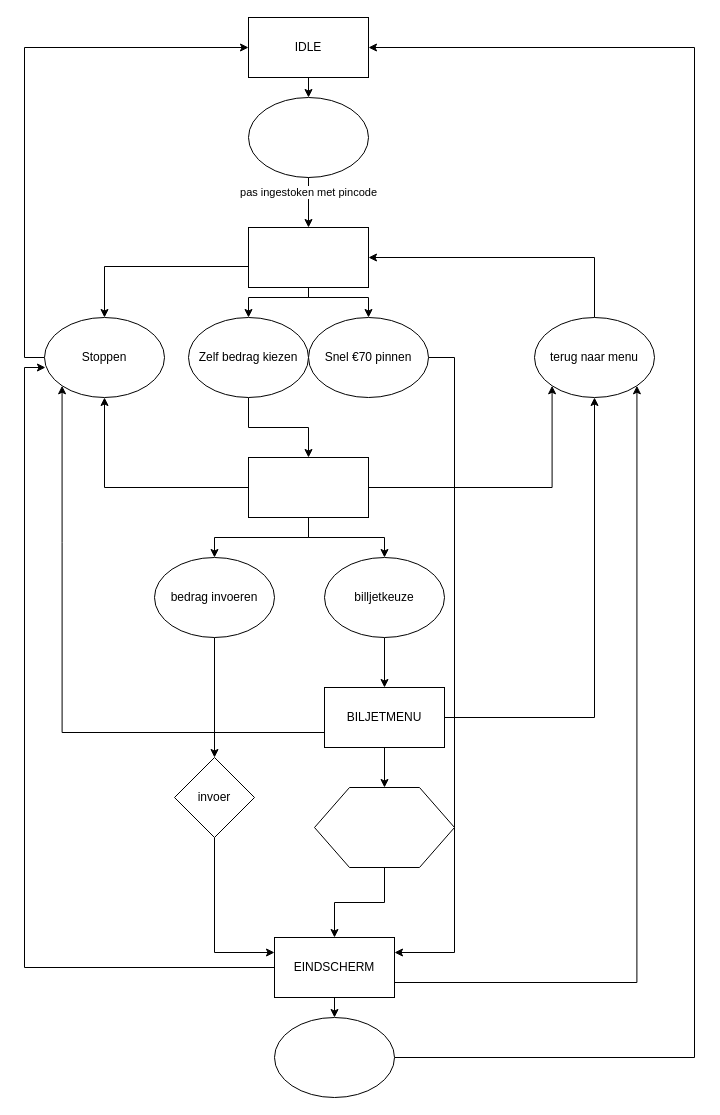
This 720x1115 diagram has some shape labels left out. The centre of each missing label's shape, as x and y in pixels:
"multiple choice: - €5 - €10 - €20 - €50" belongs at pixel 384 827.
"pas insteken om te beginnen" belongs at pixel 308 137.
"PINMENU" belongs at pixel 308 487.
"pinnen" belongs at pixel 334 1057.
"STARTSCHERM" belongs at pixel 308 257.
